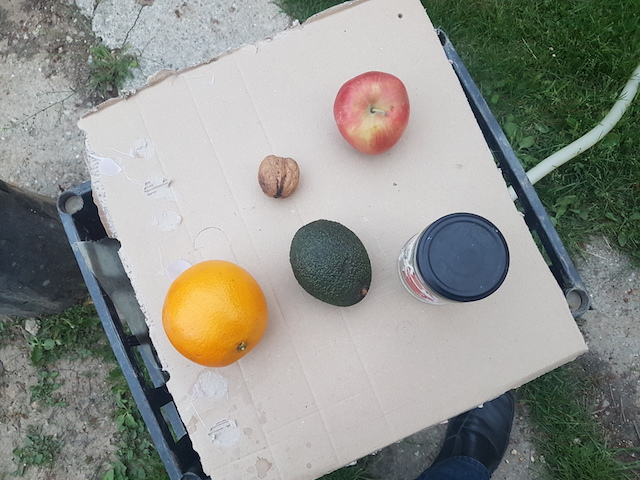apple: (330, 69, 412, 156)
avocado: (286, 214, 375, 311)
nut: (256, 152, 299, 200)
orange: (157, 256, 271, 369)
recipient: (412, 210, 511, 304)
